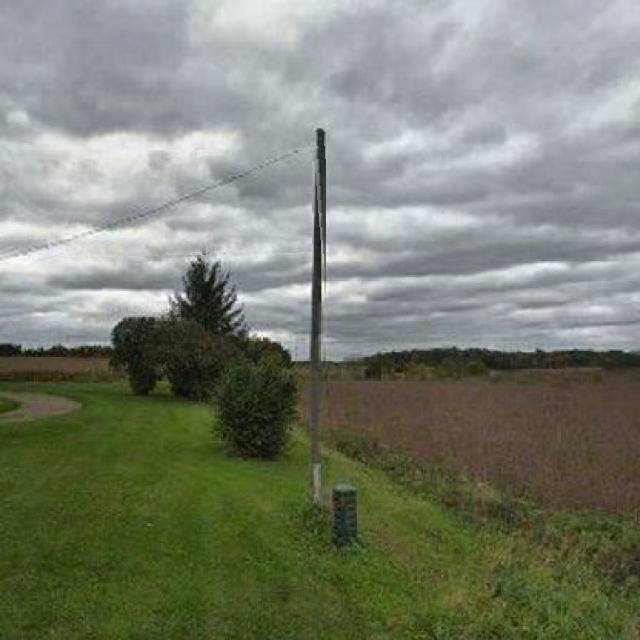pole: (313, 126, 326, 347)
wire: (4, 150, 312, 259)
